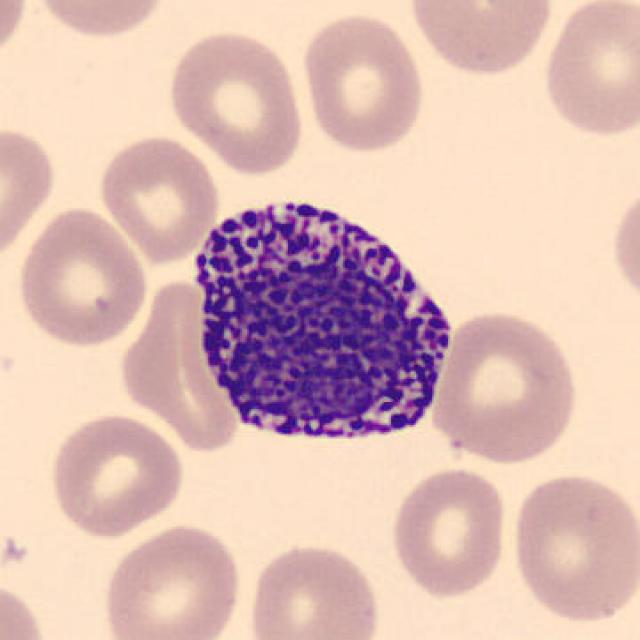Basophil: (178, 178, 468, 464)
RBC: (428, 305, 582, 467), (164, 27, 308, 176), (507, 467, 638, 626), (13, 203, 151, 351), (297, 7, 428, 157), (45, 409, 186, 541), (98, 520, 245, 640), (94, 130, 222, 264), (386, 464, 510, 601), (243, 537, 384, 640), (539, 0, 638, 141), (403, 0, 558, 79), (0, 120, 60, 268), (28, 0, 170, 41), (606, 182, 640, 312), (0, 576, 50, 640), (0, 1, 30, 70)
